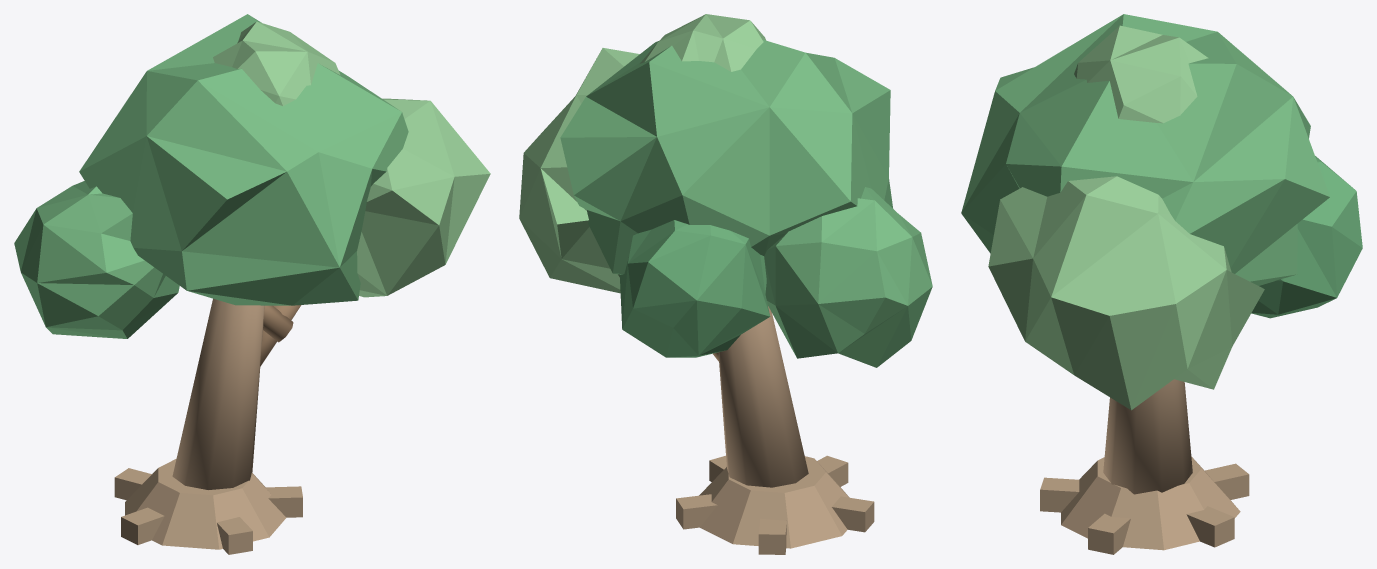
Rendered from Tree_A_02_LOD2.glb.
The picture shows the model from 3 angles, left to right: view 1: azimuth 30°, elevation 25°; view 2: azimuth 150°, elevation 25°; view 3: azimuth 270°, elevation 25°; orthographic projection. The views are drawn at different scales.
Visible parts, largest first — view 1: BW_TreeA_V02_Canopy_01_LOD2, BW_TreeA_V02_Canopy_03_LOD2, BW_TreeA_V02_Canopy_02_LOD2, BW_TreeA_V02_Trunk_LOD2, BW_TreeA_V02_Roots_LOD2, BW_TreeA_V02_Canopy_04_LOD2, BW_TreeA_V02_Branches_LOD2; view 2: BW_TreeA_V02_Canopy_01_LOD2, BW_TreeA_V02_Canopy_03_LOD2, BW_TreeA_V02_Canopy_05_LOD2, BW_TreeA_V02_Roots_LOD2, BW_TreeA_V02_Trunk_LOD2, BW_TreeA_V02_Canopy_02_LOD2, BW_TreeA_V02_Canopy_04_LOD2; view 3: BW_TreeA_V02_Canopy_01_LOD2, BW_TreeA_V02_Canopy_02_LOD2, BW_TreeA_V02_Roots_LOD2, BW_TreeA_V02_Canopy_04_LOD2, BW_TreeA_V02_Canopy_05_LOD2, BW_TreeA_V02_Trunk_LOD2.
Boxes of the visible parts, x1,y1,x2,y2 form: BW_TreeA_V02_Canopy_01_LOD2: (79, 14, 408, 305); BW_TreeA_V02_Canopy_03_LOD2: (14, 181, 179, 338); BW_TreeA_V02_Canopy_02_LOD2: (357, 98, 490, 297); BW_TreeA_V02_Trunk_LOD2: (172, 298, 264, 489); BW_TreeA_V02_Roots_LOD2: (114, 458, 302, 554); BW_TreeA_V02_Canopy_04_LOD2: (213, 21, 340, 105); BW_TreeA_V02_Branches_LOD2: (260, 305, 301, 366); BW_TreeA_V02_Canopy_01_LOD2: (560, 39, 892, 274); BW_TreeA_V02_Canopy_03_LOD2: (764, 187, 932, 367); BW_TreeA_V02_Canopy_05_LOD2: (619, 220, 770, 357); BW_TreeA_V02_Roots_LOD2: (676, 455, 874, 554); BW_TreeA_V02_Trunk_LOD2: (718, 306, 808, 487); BW_TreeA_V02_Canopy_02_LOD2: (519, 48, 639, 293); BW_TreeA_V02_Canopy_04_LOD2: (640, 14, 765, 71); BW_TreeA_V02_Canopy_01_LOD2: (961, 14, 1329, 285); BW_TreeA_V02_Canopy_02_LOD2: (988, 176, 1264, 410); BW_TreeA_V02_Roots_LOD2: (1040, 456, 1249, 554); BW_TreeA_V02_Canopy_04_LOD2: (1074, 25, 1208, 123); BW_TreeA_V02_Canopy_05_LOD2: (1251, 156, 1362, 318); BW_TreeA_V02_Trunk_LOD2: (1103, 379, 1192, 494).
Bounding box in the file's own units: 4.3 × 4.71 × 3.36.
